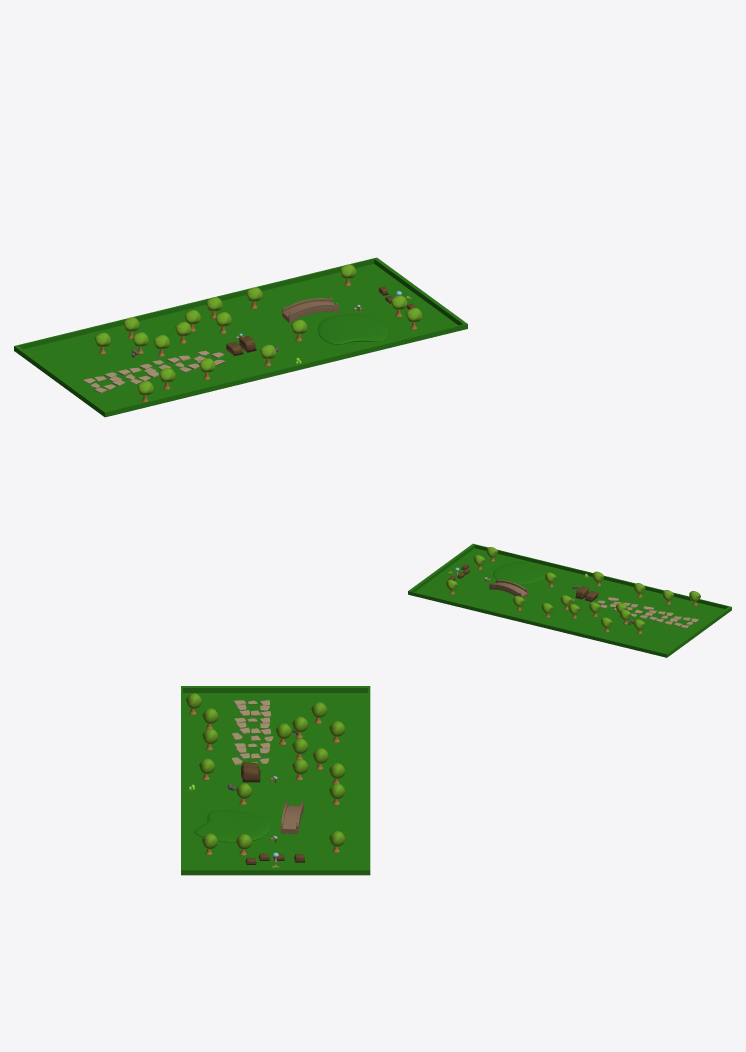
Rendered from escenario1.glb.
3 views of the same model, one above another, from view 1: azimuth 30°, elevation 25°; view 2: azimuth 150°, elevation 25°; view 3: azimuth 270°, elevation 25° (orthographic). The views are drawn at different scales.
Parts seen in each view (by area): view 1: Cube, Pasto manzana, PUENTE; view 2: Cube, Pasto manzana, PUENTE; view 3: Cube, Pasto manzana, PUENTE.
Boxes of the visible parts, left/top/right/bottom form: Cube: left=14, top=257, right=467, bottom=417; Pasto manzana: left=318, top=314, right=388, bottom=344; PUENTE: left=282, top=297, right=339, bottom=322; Cube: left=408, top=543, right=731, bottom=657; Pasto manzana: left=493, top=562, right=546, bottom=585; PUENTE: left=489, top=579, right=528, bottom=598; Cube: left=181, top=686, right=370, bottom=875; Pasto manzana: left=194, top=810, right=271, bottom=842; PUENTE: left=280, top=801, right=303, bottom=833.
Size of the model in its own units: 61.22 by 3.02 by 49.39.
